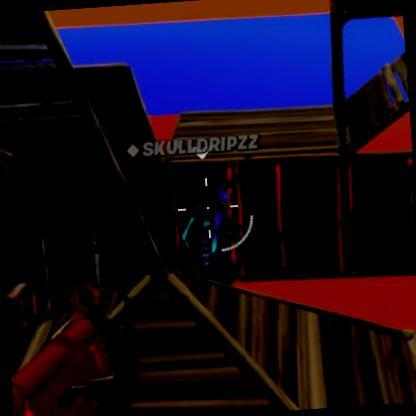person: (176, 180, 252, 288)
